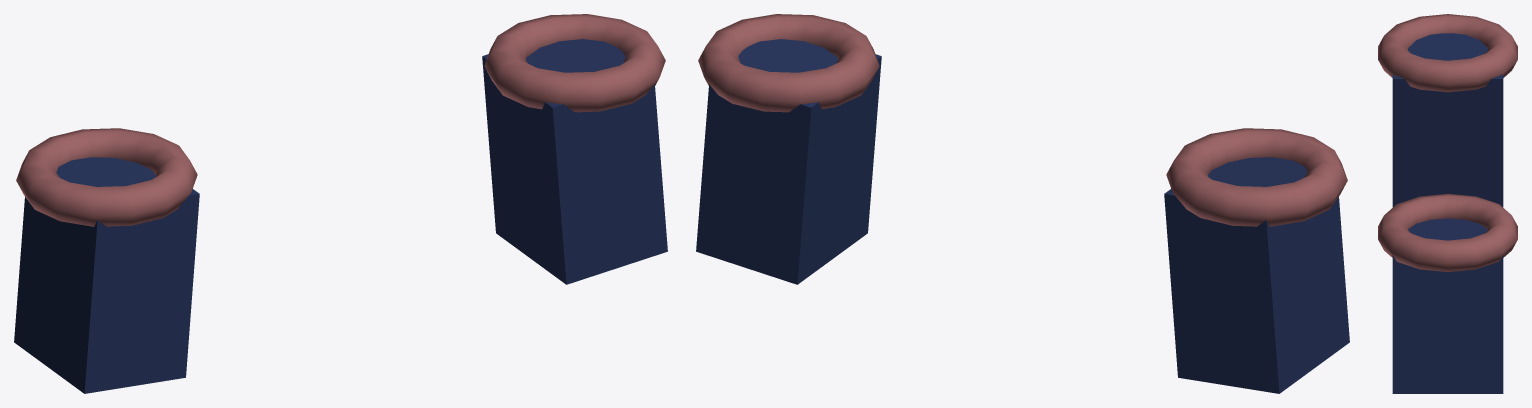
File: hands.glb
The picture shows the model from 3 angles, left to right: view 1: azimuth 30°, elevation 25°; view 2: azimuth 150°, elevation 25°; view 3: azimuth 270°, elevation 25°; orthographic projection. The views are drawn at different scales.
Parts seen in each view (by area): view 1: gauntlet_-1, gauntlet_1, cuff_-1, cuff_1; view 2: gauntlet_-1, gauntlet_1, cuff_-1, cuff_1; view 3: gauntlet_1, gauntlet_-1, cuff_1, cuff_-1.
Part boxes in pixels (box(x1,y1,x2,y2)): gauntlet_-1: box(14, 157, 199, 393); gauntlet_1: box(482, 39, 667, 284); cuff_-1: box(16, 128, 197, 226); cuff_1: box(484, 14, 665, 112); gauntlet_-1: box(1164, 157, 1349, 393); gauntlet_1: box(696, 39, 881, 284); cuff_-1: box(1166, 128, 1347, 226); cuff_1: box(698, 14, 879, 112); gauntlet_1: box(1392, 218, 1503, 393); gauntlet_-1: box(1392, 33, 1503, 207); cuff_1: box(1378, 193, 1517, 271); cuff_-1: box(1378, 14, 1517, 92).
Bounding box in the file's own units: 1.23 × 0.3816 × 0.3022.
